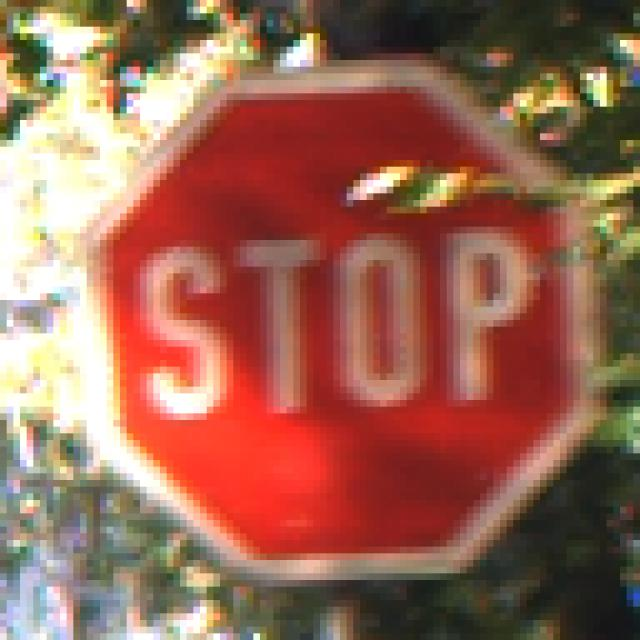STOP: (61, 54, 588, 588)
